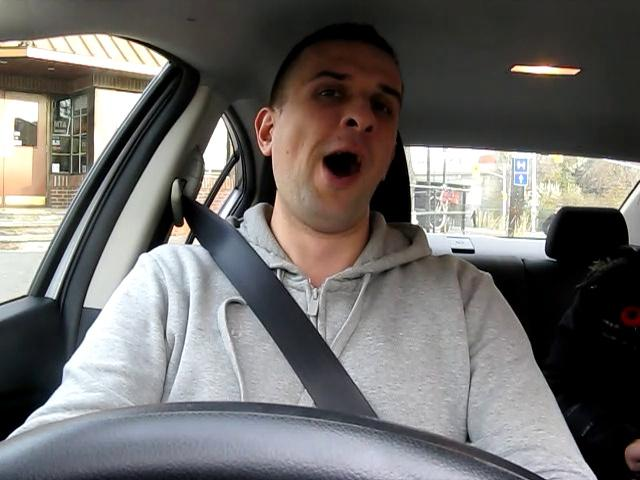open_eyeL: (303, 77, 358, 108)
open_eyeR: (361, 91, 413, 129)
yawn: (295, 141, 378, 187)
